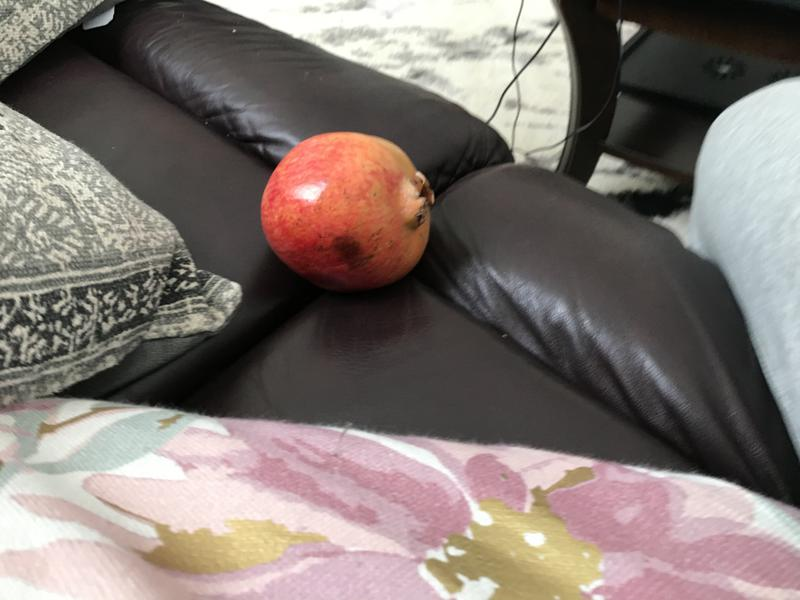pomegranate: (255, 127, 445, 296)
